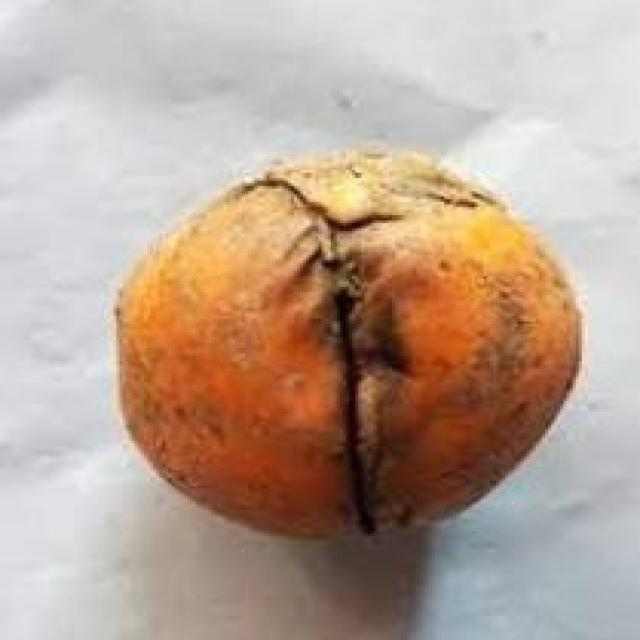damaged: (113, 149, 588, 550)
